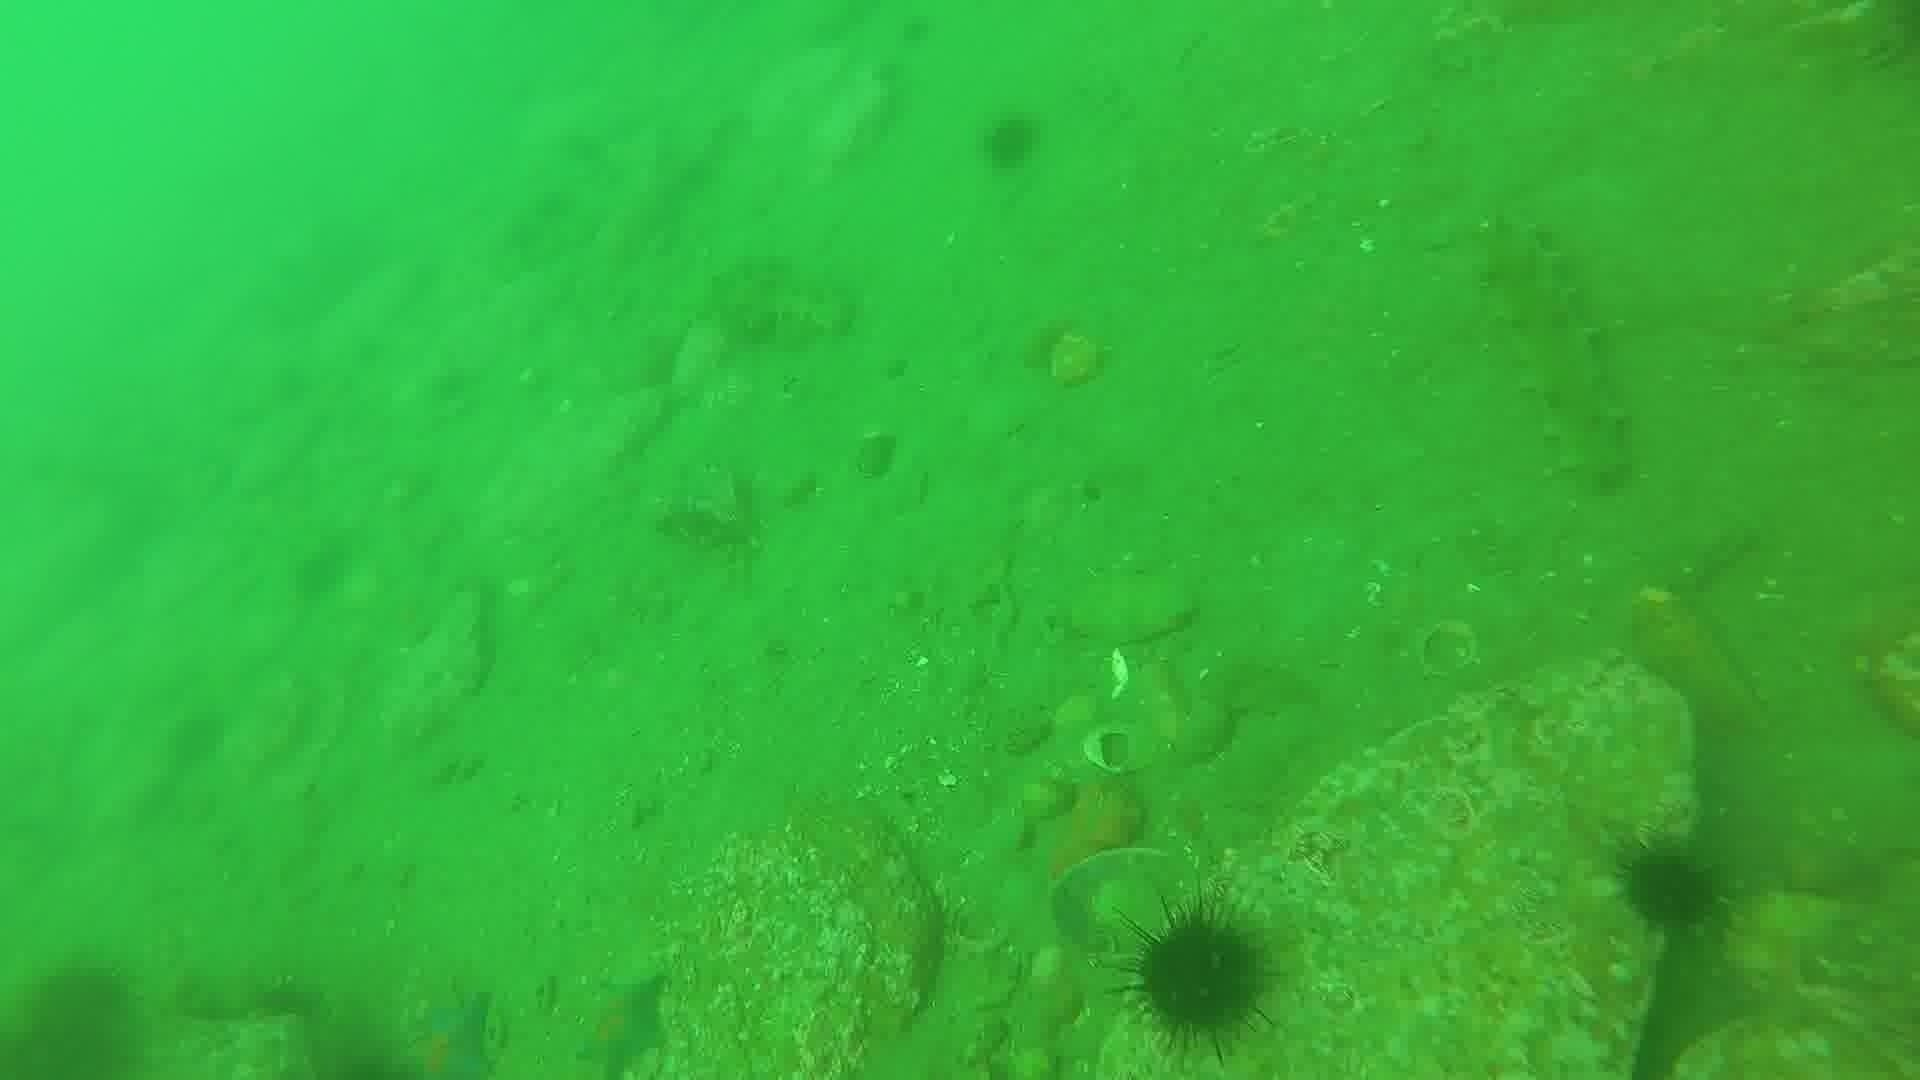echinus: (1120, 901, 1279, 1060), (8, 957, 146, 1077), (1614, 837, 1727, 938), (975, 108, 1046, 175)
holothurian: (1476, 215, 1639, 492), (699, 251, 855, 349)
starfish: (566, 967, 676, 1076), (389, 982, 506, 1077)
